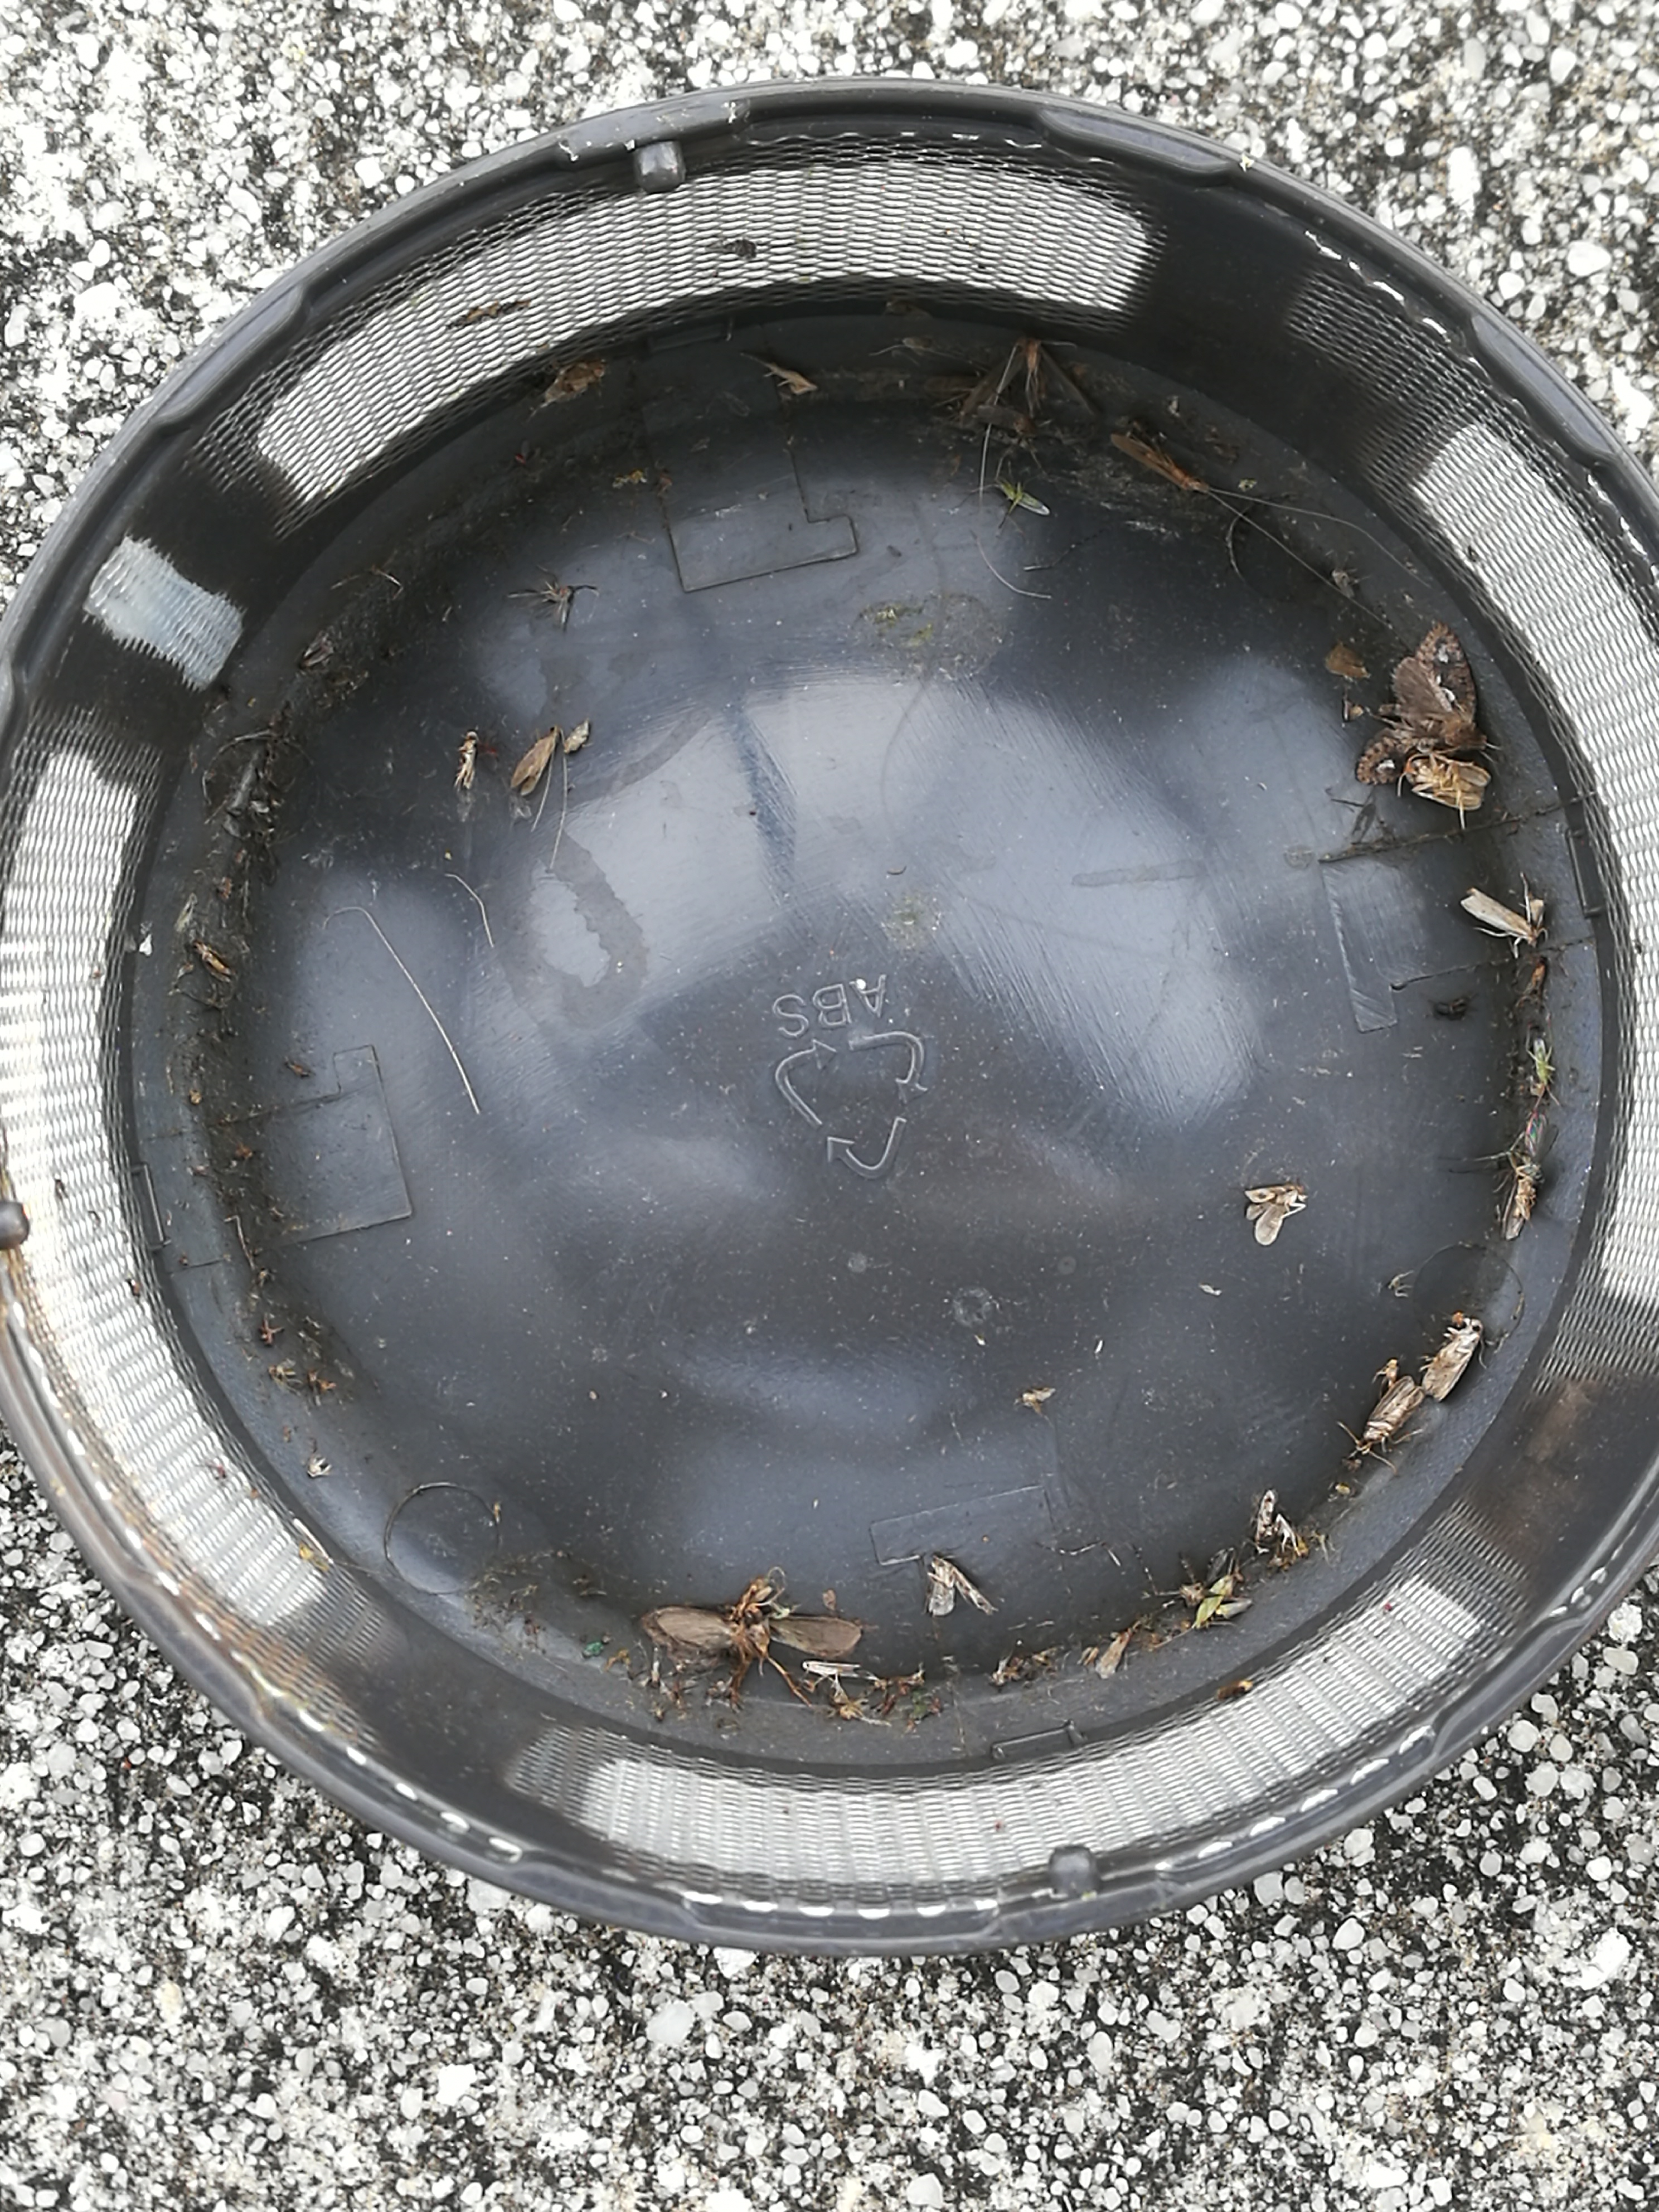mosquito: (1110, 439, 1208, 495), (1460, 888, 1539, 941), (511, 728, 558, 794), (1504, 1179, 1530, 1238), (1094, 1632, 1127, 1677), (457, 732, 477, 789), (1255, 1489, 1276, 1541), (803, 1662, 863, 1677), (1535, 1040, 1551, 1087)
moth: (1358, 627, 1486, 782), (645, 1581, 859, 1658), (960, 338, 1098, 430), (1420, 1318, 1483, 1400), (1405, 758, 1490, 810), (1366, 1376, 1424, 1446), (1246, 1183, 1302, 1244), (927, 1561, 983, 1615)
